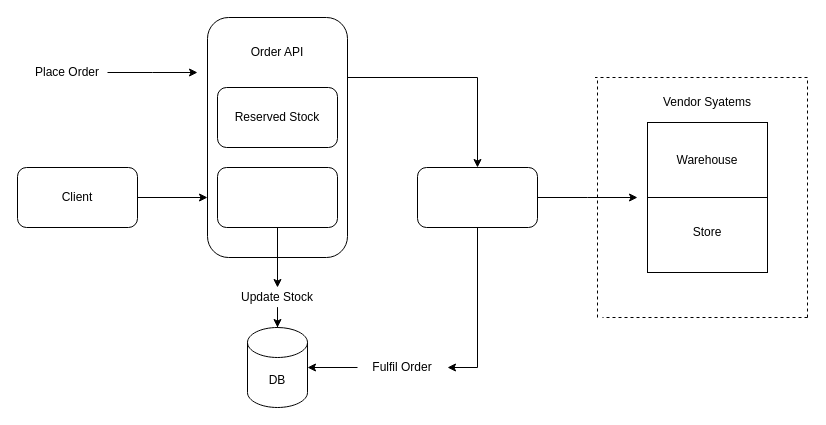
Some shapes in this 826 by 425 pixel diagram are drawn without their labels. The centre of each missing label's shape, as x and y in pixels:
Queue Order: point 277,197
Worker: point 477,197
